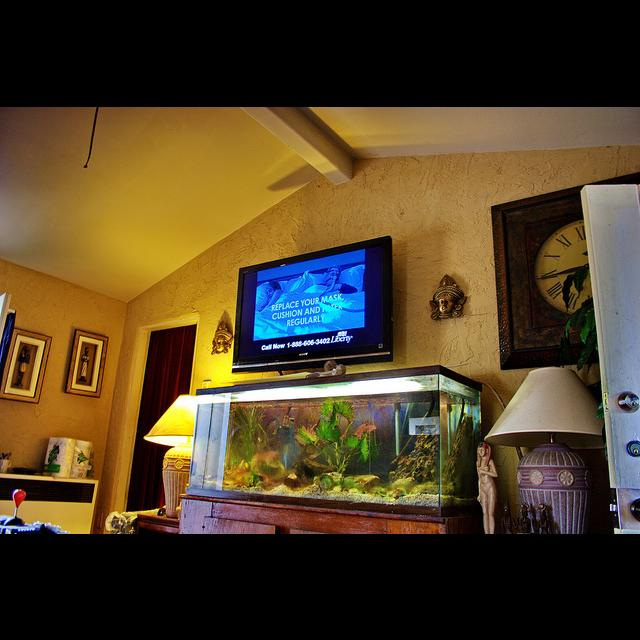Flat-Panel-TV: (238, 241, 385, 361)
